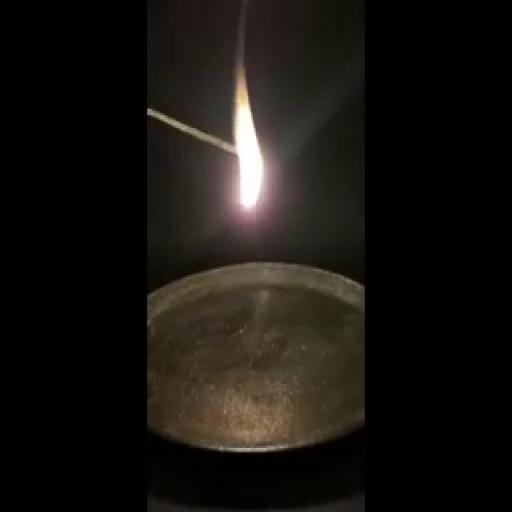smoke: (230, 84, 277, 221)
